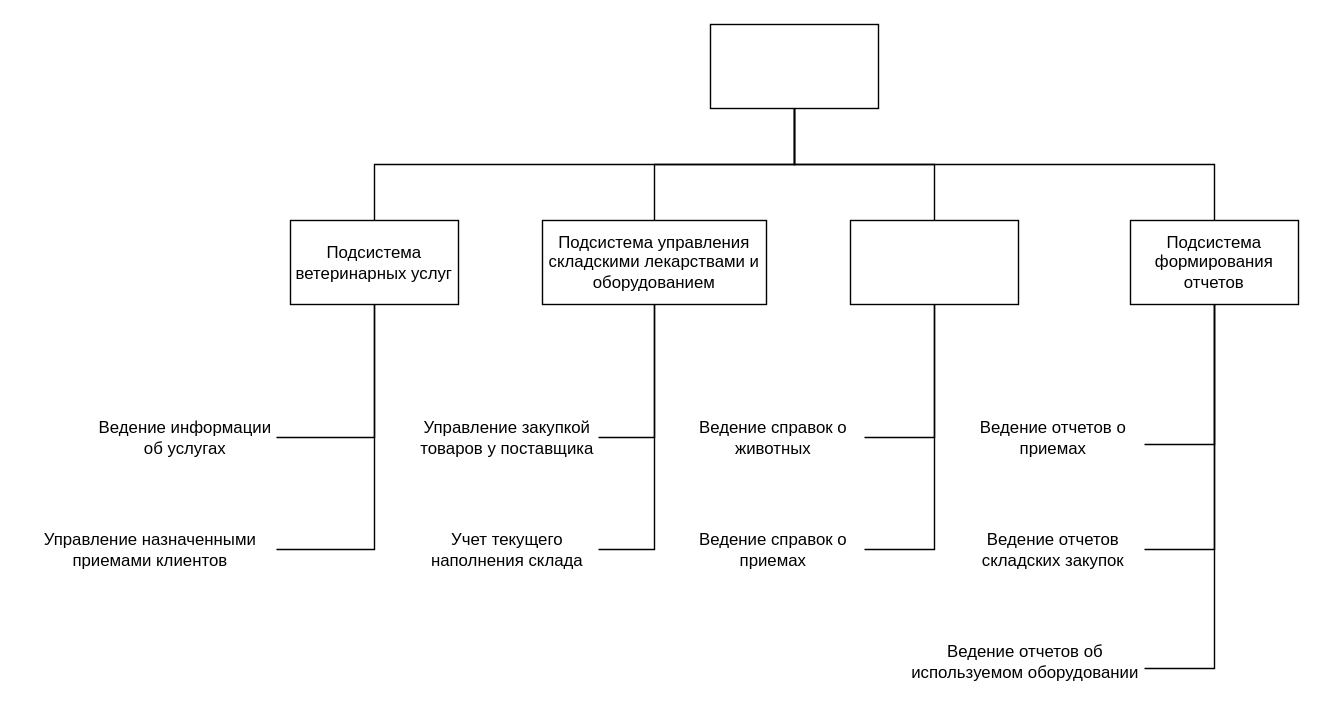
Some shapes in this 1323 by 707 pixel diagram are drawn without their labels. Here are the shapes that lost their labels. From the top down, the centre of each, then its label:
pixel 793 65: Информационная система
pixel 933 261: Подсистема ведения справочников
